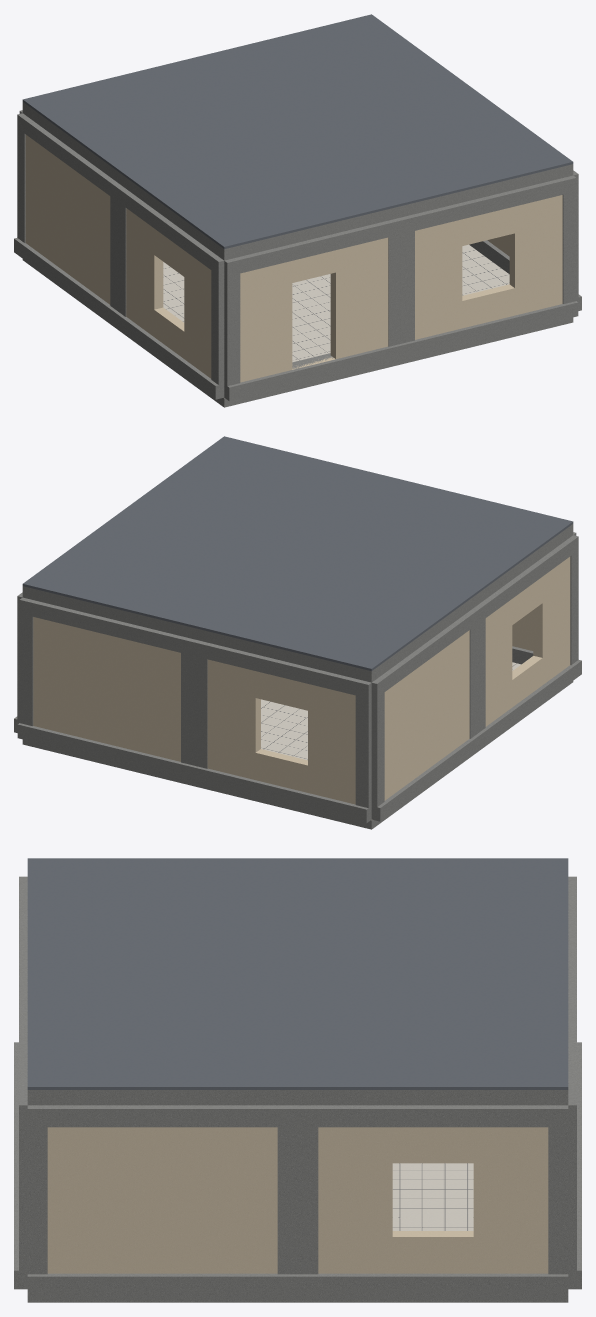
The model's file is house_4.glb.
3 views of the same model, one above another, from view 1: azimuth 30°, elevation 25°; view 2: azimuth 150°, elevation 25°; view 3: azimuth 270°, elevation 25° (orthographic). The views are drawn at different scales.
Visible parts, largest first — view 1: Cube.049, Cube.053, Cube.051, Cube.055, Cube.017, Cube.012, Cube.037, Cube.032, Cube.048, Cube.008, Cube.011, Cube.016 (+21 smaller); view 2: Cube.051, Cube.055, Cube.049, Cube.053, Cube.027, Cube.022, Cube.037, Cube.032, Cube.050, Cube.021, Cube.026, Cube.018 (+20 smaller); view 3: Cube.042, Cube.053, Cube.055, Cube.049, Cube.051, Cube.047, Cube.041, Cube.046, Cube.038, Cube.043, Cube.007, Cube.052 (+18 smaller).
Part boxes in pixels (x1,y1,x2,y2): Cube.049: [123, 130, 398, 249]; Cube.053: [298, 88, 573, 206]; Cube.051: [22, 57, 297, 174]; Cube.055: [197, 14, 471, 130]; Cube.017: [415, 195, 562, 339]; Cube.012: [240, 237, 388, 382]; Cube.037: [25, 134, 110, 304]; Cube.032: [126, 208, 211, 378]; Cube.048: [123, 175, 398, 260]; Cube.008: [224, 343, 403, 401]; Cube.011: [224, 218, 401, 276]; Cube.016: [399, 175, 576, 233]; Cube.051: [197, 552, 472, 671]; Cube.055: [22, 510, 297, 628]; Cube.049: [298, 479, 573, 596]; Cube.053: [124, 436, 398, 552]; Cube.027: [33, 617, 180, 761]; Cube.022: [207, 659, 355, 804]; Cube.037: [384, 630, 469, 800]; Cube.032: [485, 556, 570, 726]; Cube.050: [197, 597, 472, 682]; Cube.021: [194, 640, 371, 698]; Cube.026: [19, 597, 196, 655]; Cube.018: [192, 765, 371, 823]; Cube.042: [47, 1127, 277, 1273]; Cube.053: [27, 972, 297, 1089]; Cube.055: [298, 972, 568, 1089]; Cube.049: [27, 858, 297, 972]; Cube.051: [298, 858, 568, 972]; Cube.047: [318, 1127, 548, 1273]; Cube.041: [27, 1105, 297, 1127]; Cube.046: [298, 1105, 568, 1127]; Cube.038: [27, 1273, 297, 1294]; Cube.043: [298, 1273, 568, 1294]; Cube.007: [392, 1175, 473, 1230]; Cube.052: [27, 1090, 297, 1105].
Size of the model in its own units: 8.4 by 3.52 by 8.4.
32 materials, 32 textured.
